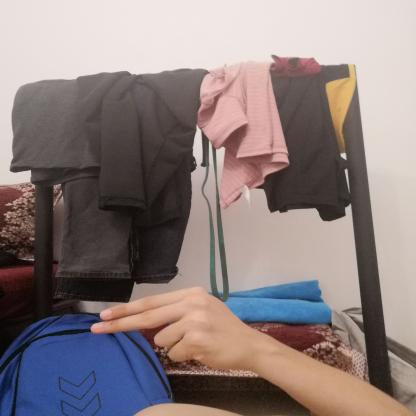AYN: (78, 280, 269, 380)
